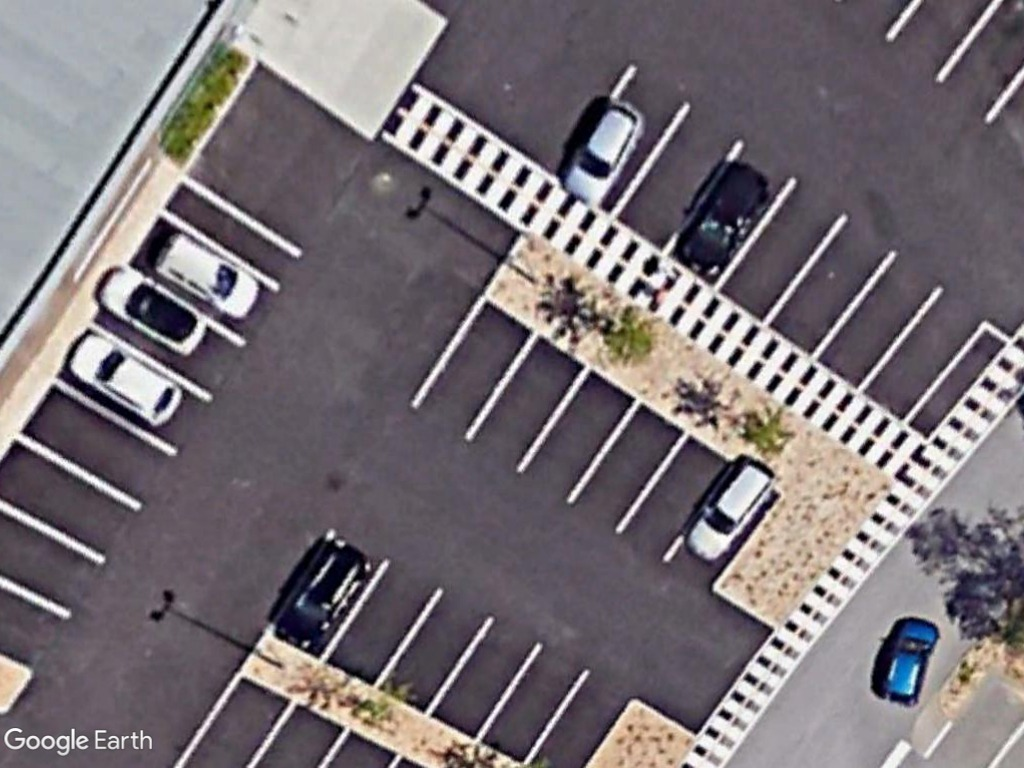car: (63, 329, 189, 431), (149, 231, 262, 323), (683, 462, 778, 567), (559, 99, 649, 209), (877, 619, 945, 710)
